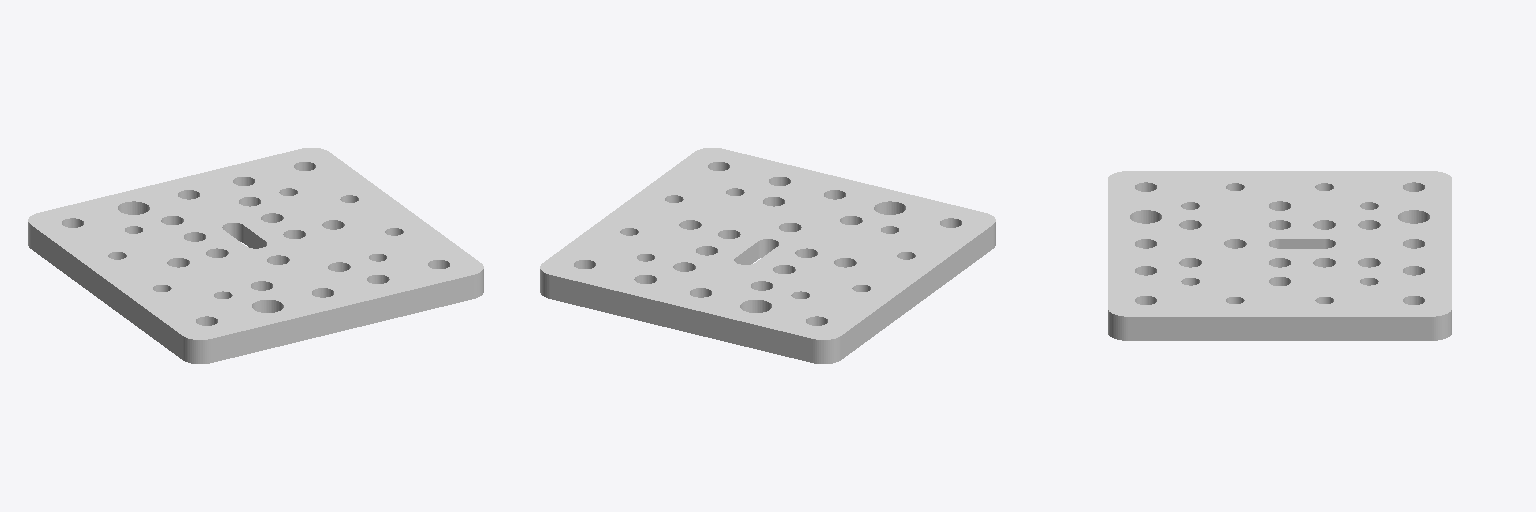
Rendered from RightVerticalRotationSlider_1.obj.
3 renders of one model, left to right at view 1: azimuth 30°, elevation 25°; view 2: azimuth 150°, elevation 25°; view 3: azimuth 270°, elevation 25°, orthographic.
Size of the model in its own units: 0.0772 by 0.006 by 0.0772.